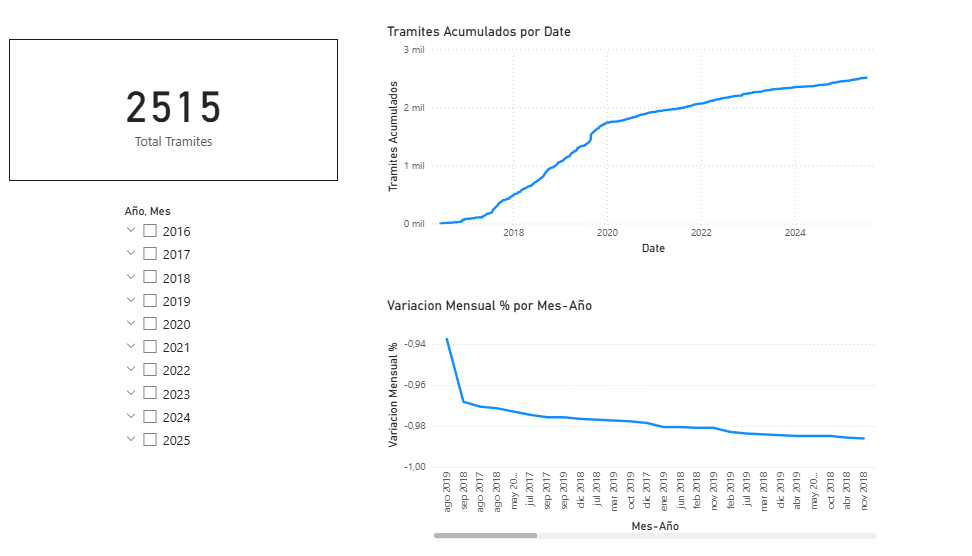

The page's visual inventory and layout, read from the dashboard file:
{"tool":"powerbi","page":{"name":"Vision general","canvas":[1280,720],"ordinal":0},"visuals":[{"type":"card","fields":{"Values":["Calendario.Total Tramites"]},"box":[35,53.8,411.2,177.5],"z":0},{"type":"lineChart","fields":{"Category":["Calendario.Date.Variación.Jerarquía de fechas.Año"],"Y":["Calendario.Tramites Acumulados"]},"box":[502.5,33.8,622.5,293.8],"z":1000},{"type":"slicer","fields":{"Values":["Calendario.Año","Calendario.Mes"]},"box":[166.2,256.2,187.5,353.8],"z":2000},{"type":"lineChart","fields":{"Category":["Calendario.Mes-Año"],"Y":["Calendario.Variacion Mensual %"]},"box":[502.5,376.2,622.5,307.5],"z":3000}]}

Visuals, with their boxes in screenshot pixels (x1, y1, x2, y2), scaled from the page's 1280x720 canvas onto the 972x556 screenshot:
card - Calendario.Total Tramites: (left=27, top=42, right=339, bottom=179)
lineChart - Calendario.Date.Variación.Jerarquía de fechas.Año x Calendario.Tramites Acumulados: (left=382, top=26, right=854, bottom=253)
slicer - Calendario.Año x Calendario.Mes: (left=126, top=198, right=269, bottom=471)
lineChart - Calendario.Mes-Año x Calendario.Variacion Mensual %: (left=382, top=291, right=854, bottom=528)
